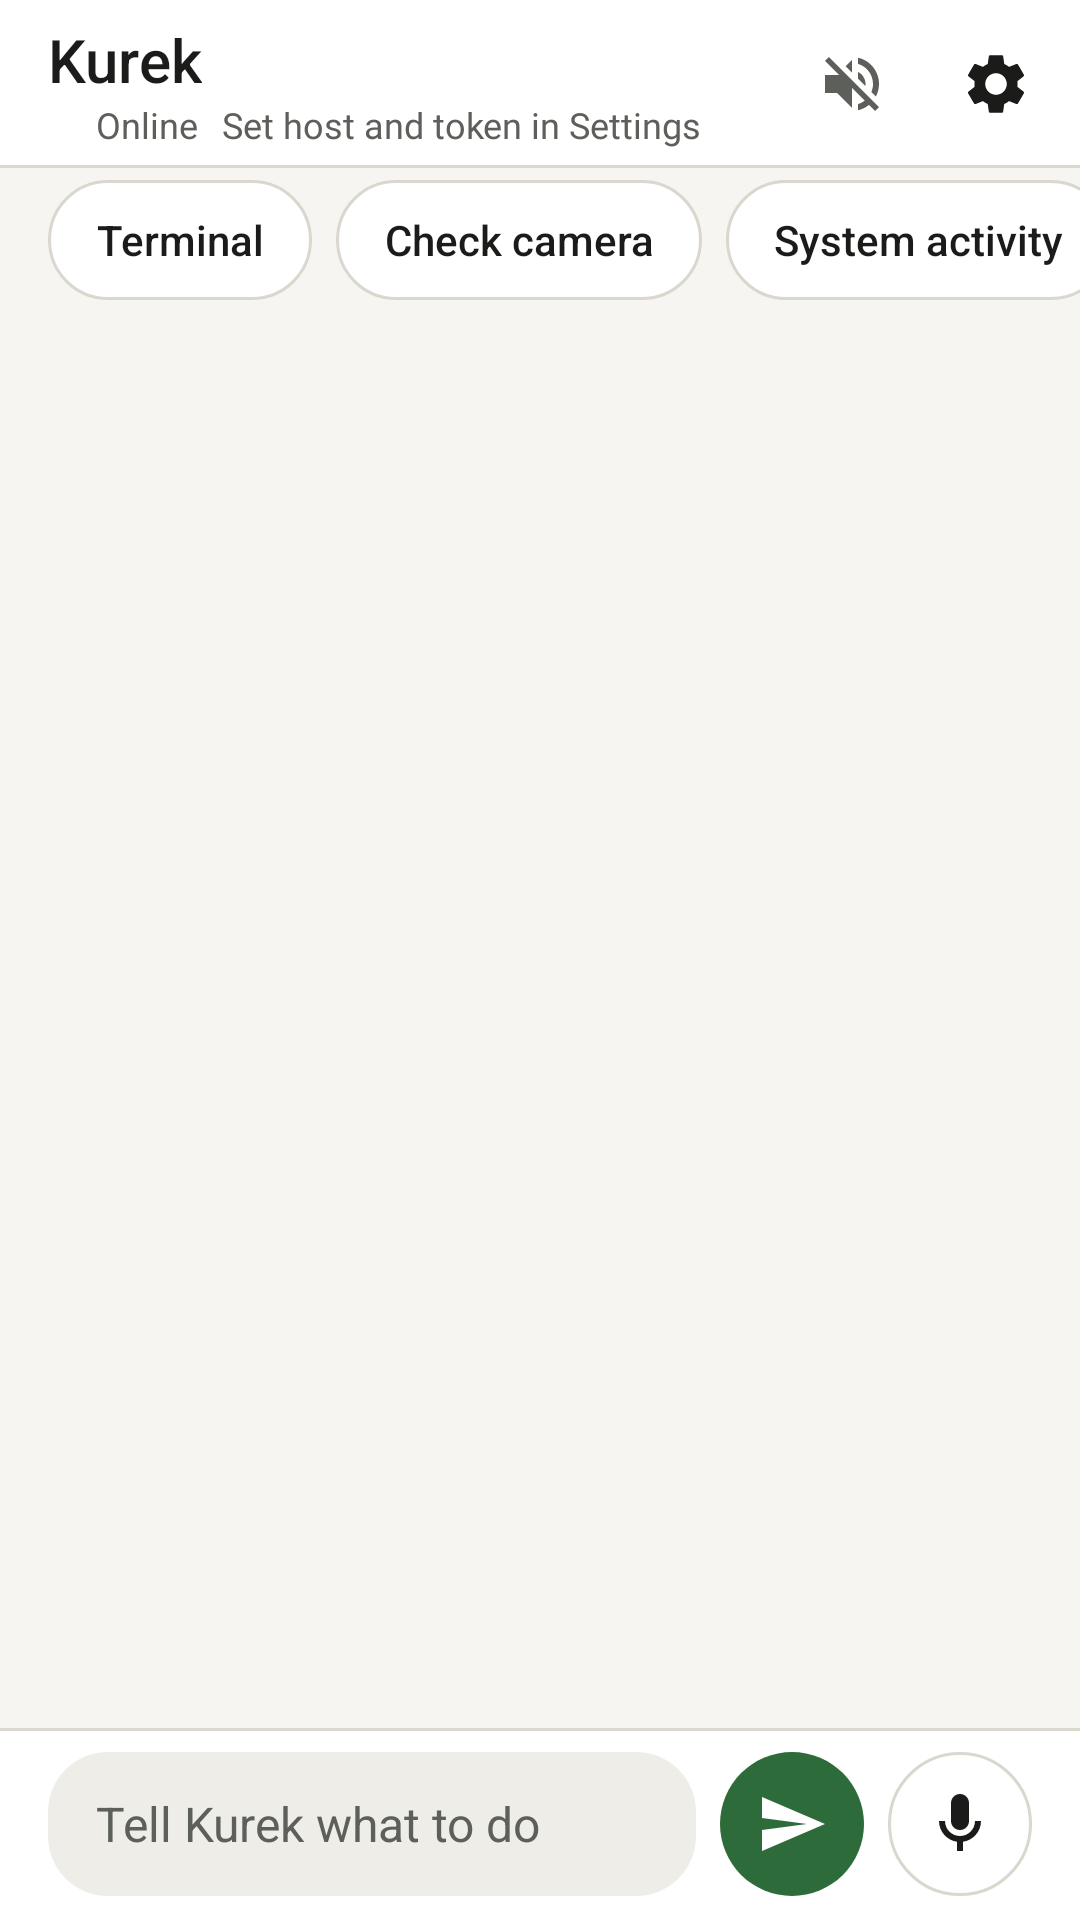

Screen size 1080 x 1920. Icon name, then its center in pixels as point (x, y):
Send prompt: point (792, 1824)
Server settings: point (996, 84)
Speak a prompt: point (960, 1824)
Toggle speak out loud: point (852, 84)
